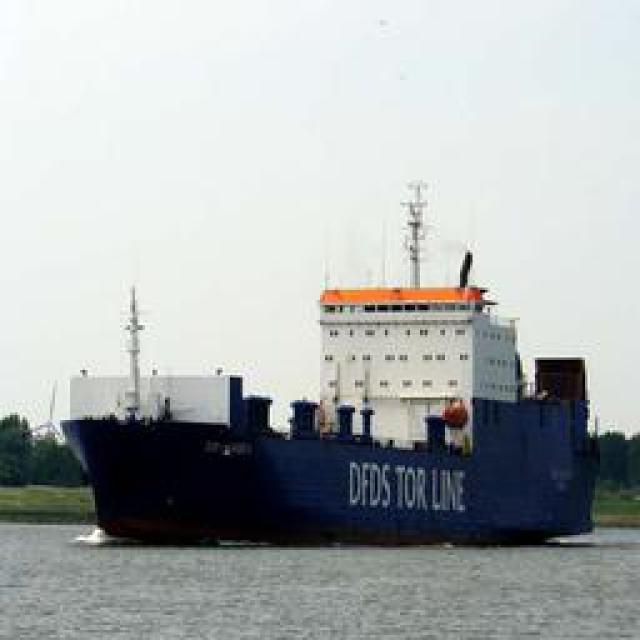Ship: (62, 256, 600, 541)
